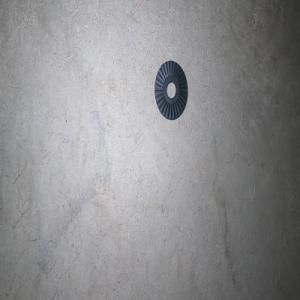Washer: (154, 60, 187, 120)
